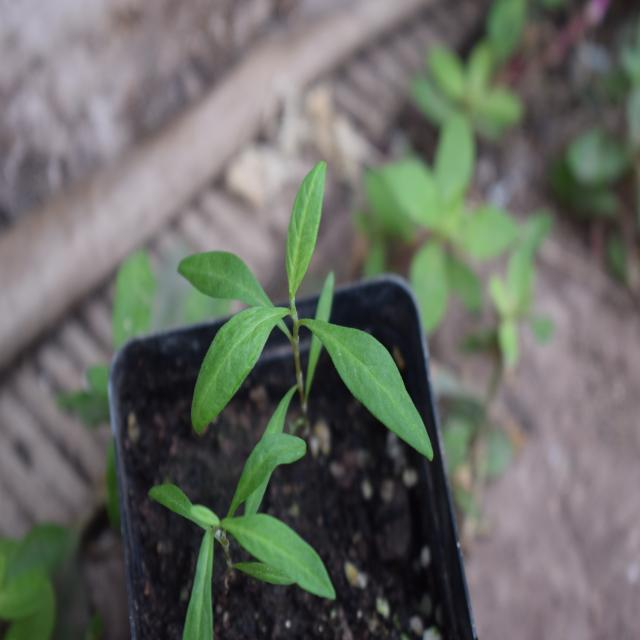white_smart_weed: (144, 168, 442, 502)
